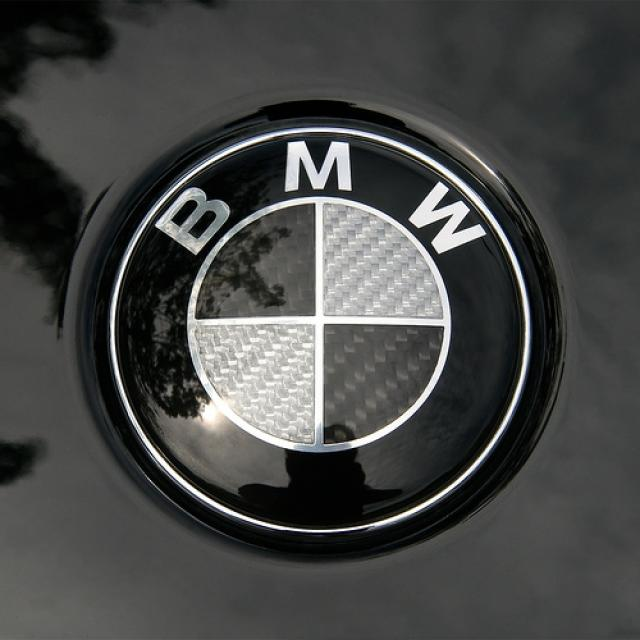bmw: (98, 118, 541, 548)
